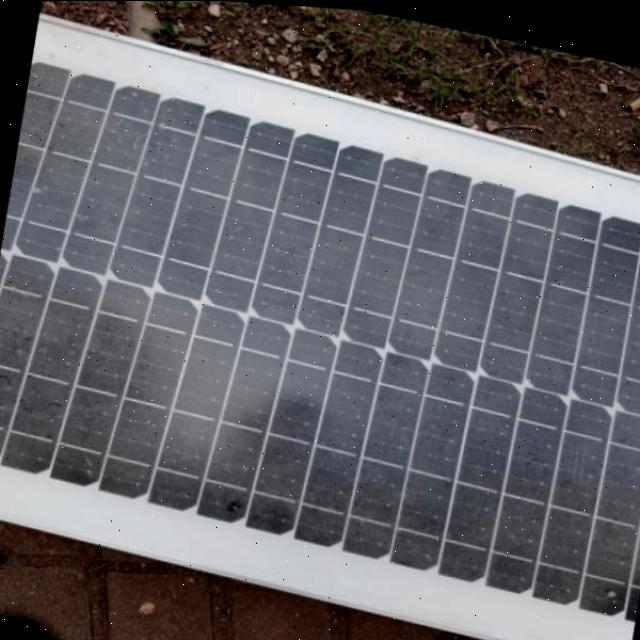Surface Contaminant: (0, 72, 640, 614)
